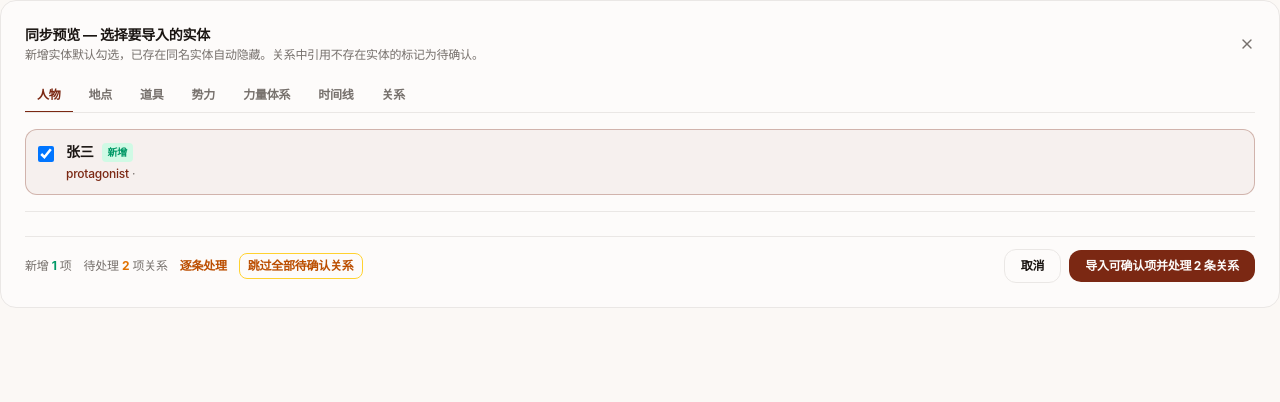
Test: SyncPreviewPanel T4.4-T4.6 › T4.6b: every unresolved relationship offers a matching choice or an explicit skip
The width and height of the screenshot is (1280, 402).
Click the button "关系" at (393, 96), box [370,79,417,113]
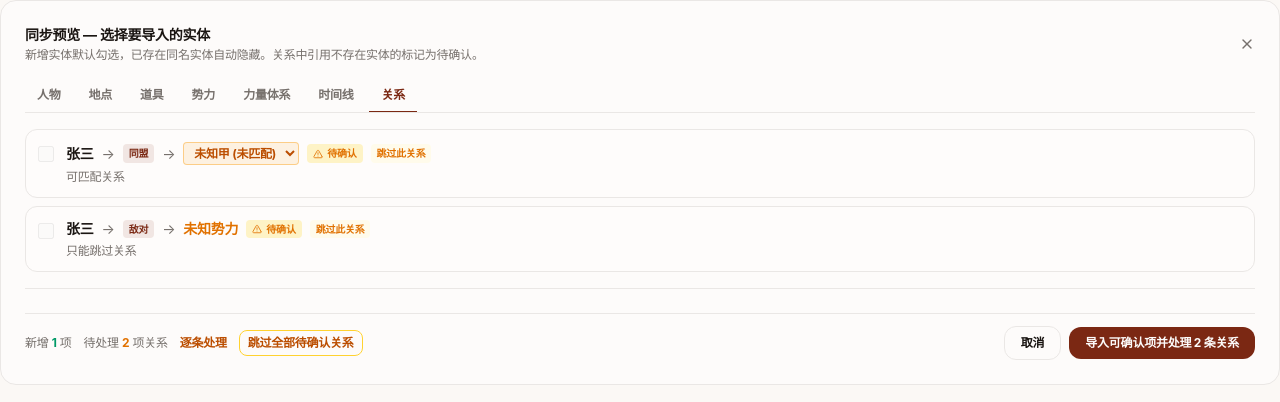
Check: the button "跳过此关系" in the row of "同盟" is shown, box [371,144,431,163]
Check: the button "跳过此关系" in the row of "未知势力" is shown, box [310,220,370,238]
